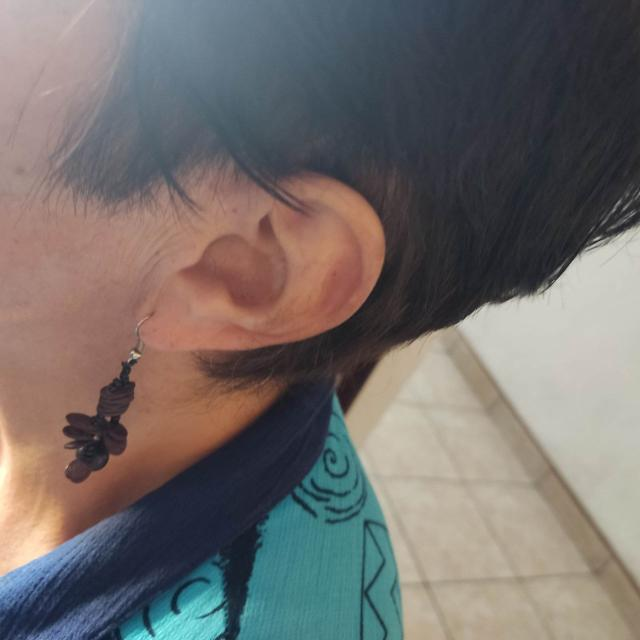ear: (138, 176, 384, 350)
